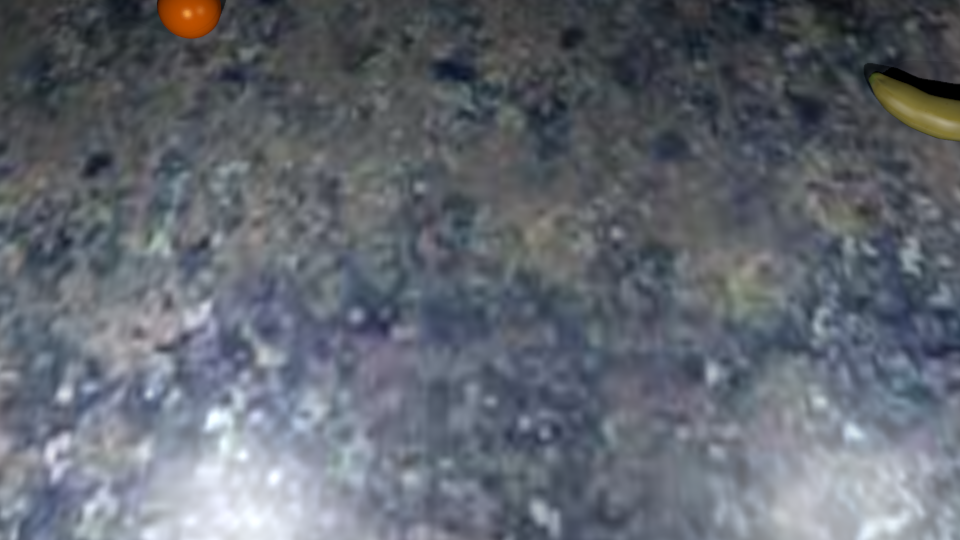banana: (870, 74, 960, 141)
orange: (159, 1, 221, 39)
